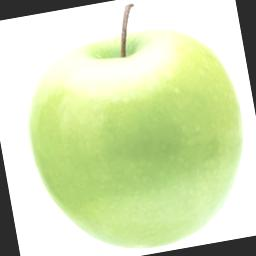Apple Unripe: (0, 4, 255, 256)
